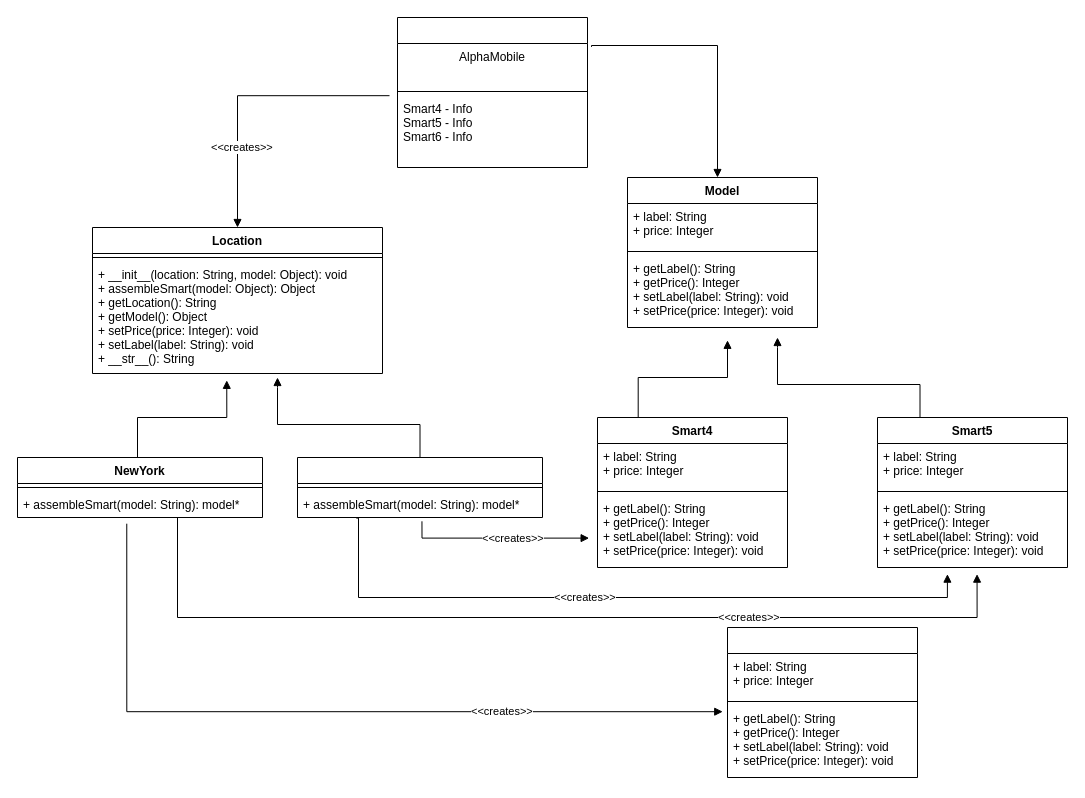
The diagram is 1085 pixels wide and 798 high, and some of its shapes have lost their labels. The box of each missing label's shape, as (x1, y1, x2, y2) in pixels:
Client: (396, 16, 588, 168)
Singapore: (296, 456, 542, 518)
Smart6: (726, 626, 918, 778)
